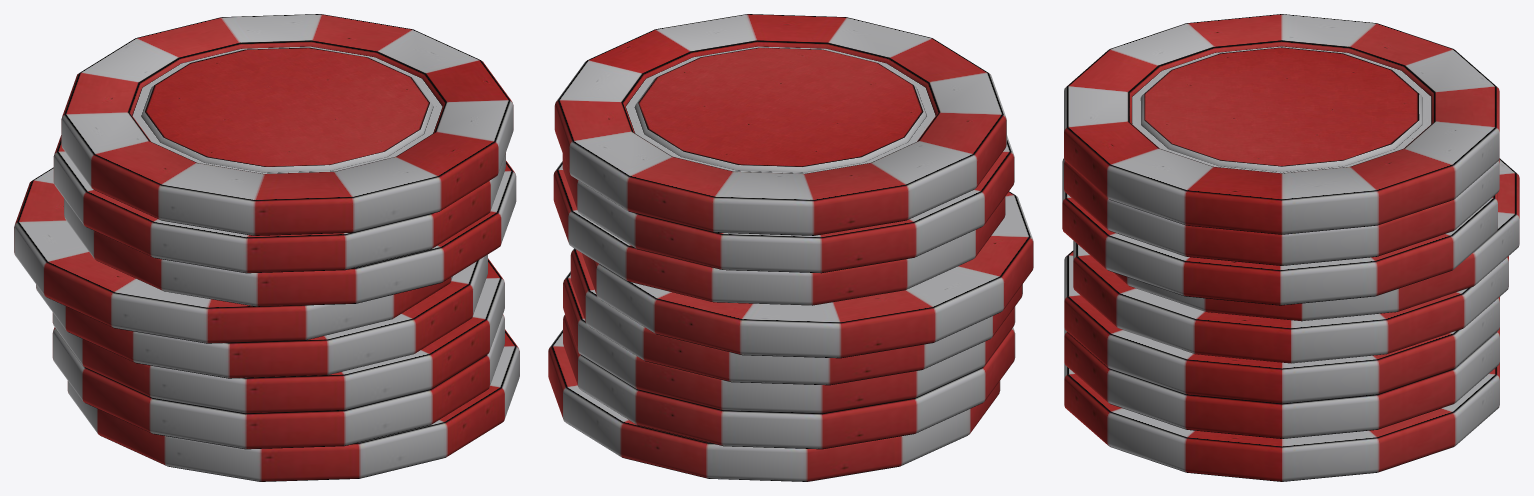
File: poker_chip_stack_medium.fbx
3 renders of one model, left to right at view 1: azimuth 30°, elevation 25°; view 2: azimuth 150°, elevation 25°; view 3: azimuth 270°, elevation 25°, orthographic.
Visible parts, largest first — view 1: poker_chip_stack_medium; view 2: poker_chip_stack_medium; view 3: poker_chip_stack_medium.
Boxes of the visible parts, x1=… form: poker_chip_stack_medium: x1=14, y1=14, x2=519, y2=481; poker_chip_stack_medium: x1=548, y1=14, x2=1033, y2=481; poker_chip_stack_medium: x1=1062, y1=14, x2=1519, y2=481.
Size of the model in its own units: 13 by 8.06 by 11.98.
1 material, 1 textured.
